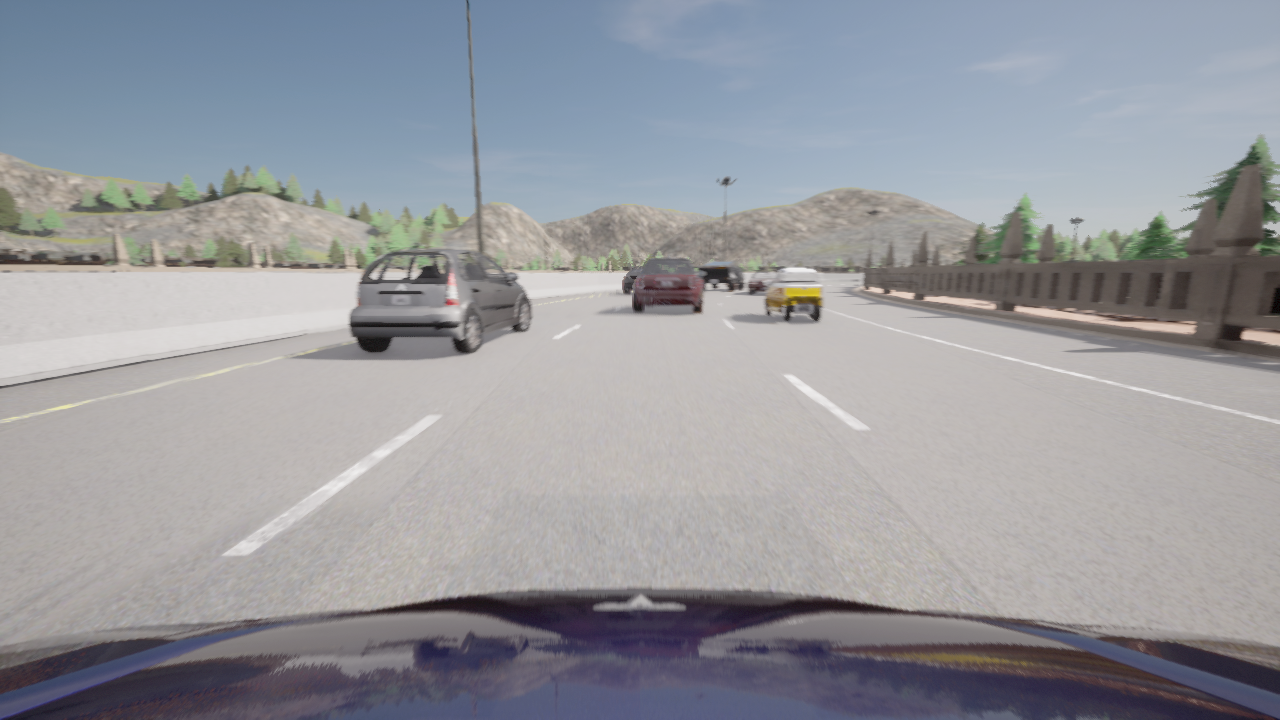cyclist: (0, 588, 1279, 719), (348, 248, 531, 353), (633, 254, 704, 312), (765, 267, 823, 321), (699, 261, 745, 290), (748, 272, 777, 293), (623, 268, 643, 293)
